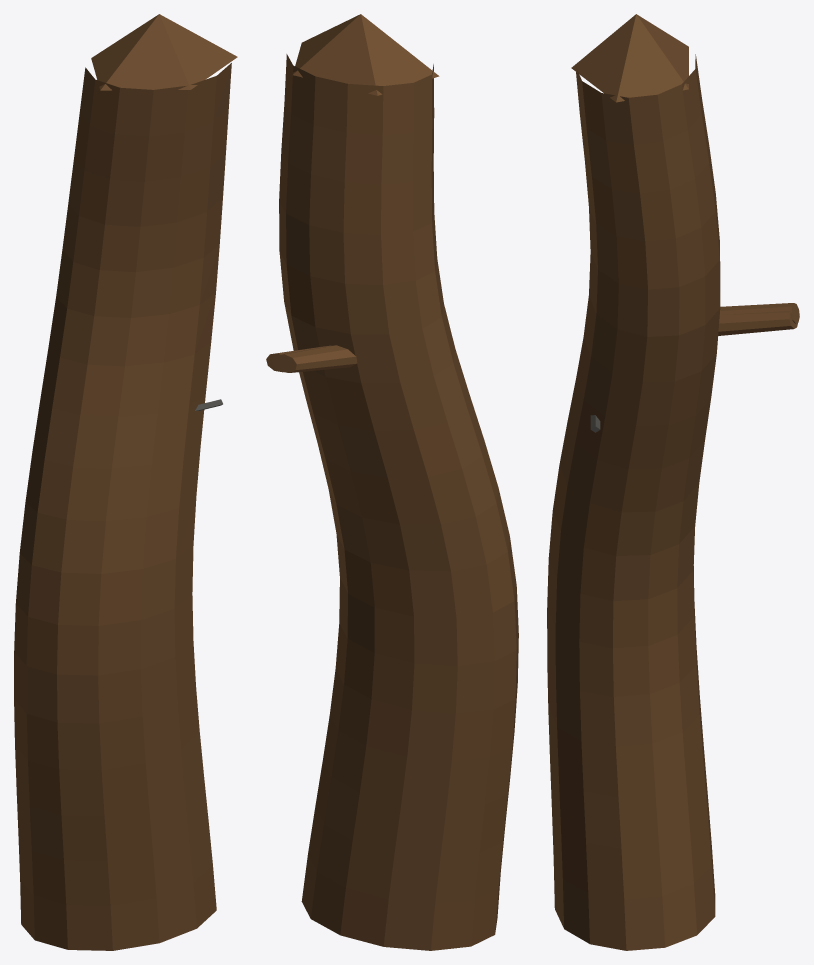
File: crow-perch-post.glb
3 views of the same model, side by side, from view 1: azimuth 30°, elevation 25°; view 2: azimuth 150°, elevation 25°; view 3: azimuth 270°, elevation 25° (orthographic). The views are drawn at different scales.
Parts seen in each view (by area): view 1: Body_Wood; view 2: Body_Wood; view 3: Body_Wood.
Part boxes in pixels (left/top/right/bottom): Body_Wood: left=14, top=14, right=237, bottom=950; Body_Wood: left=266, top=14, right=518, bottom=950; Body_Wood: left=547, top=14, right=799, bottom=950.
Bounding box in the file's own units: 0.4 × 1.6 × 0.4.
